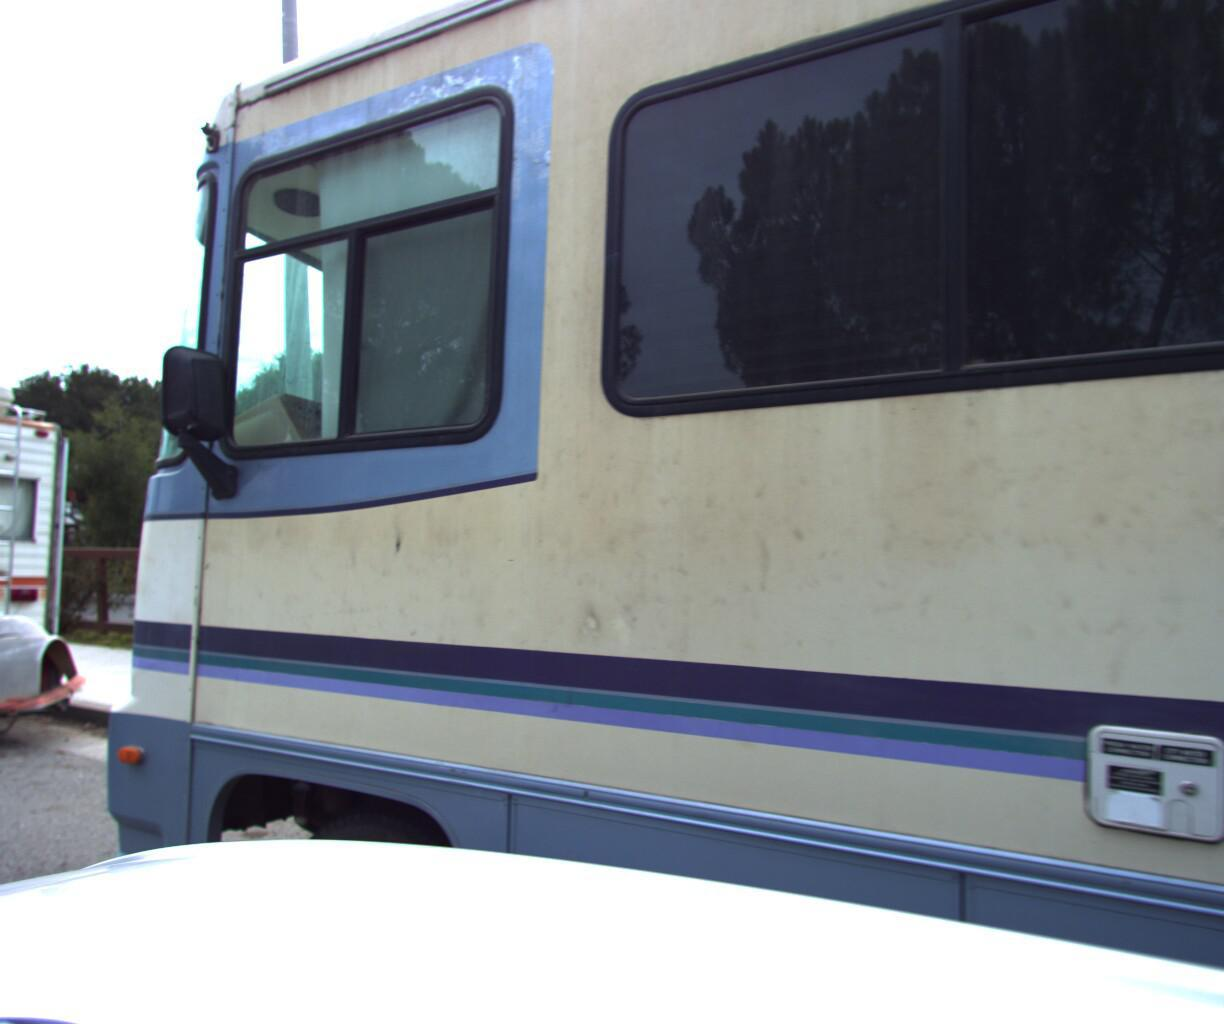other_vehicle: (0, 324, 180, 833)
